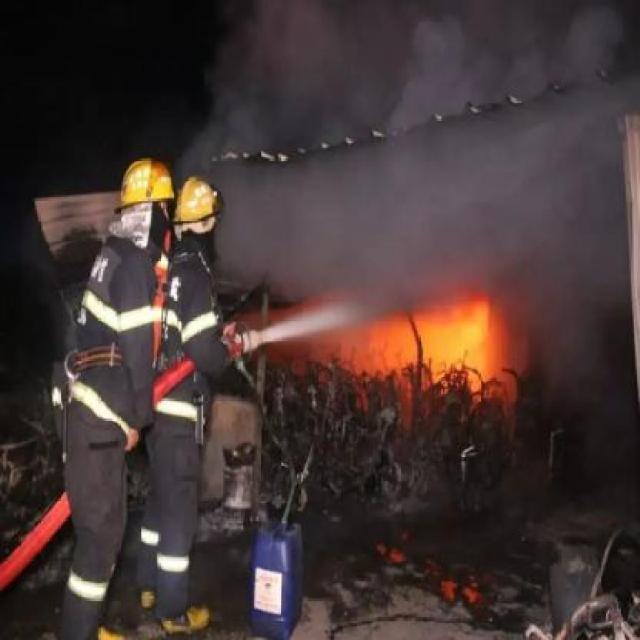Fire: (369, 307, 503, 384)
Smoke: (226, 164, 620, 316)
